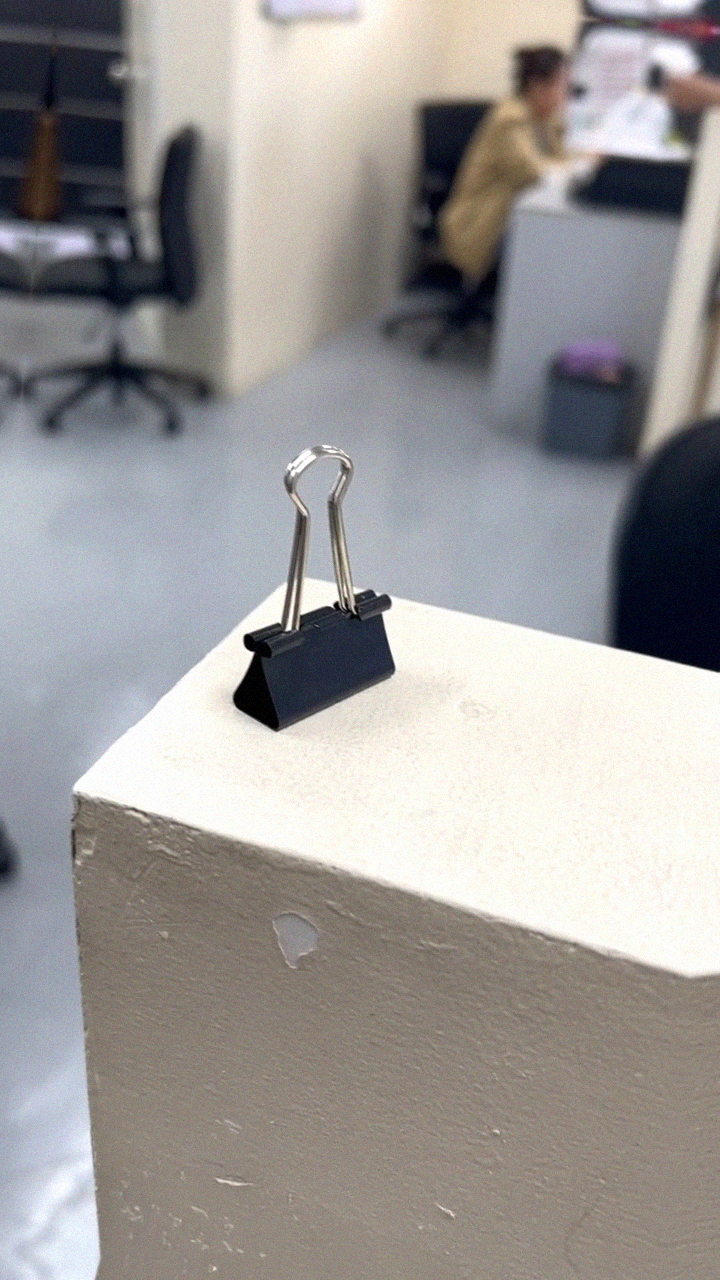kep_giay: (224, 435, 419, 746)
